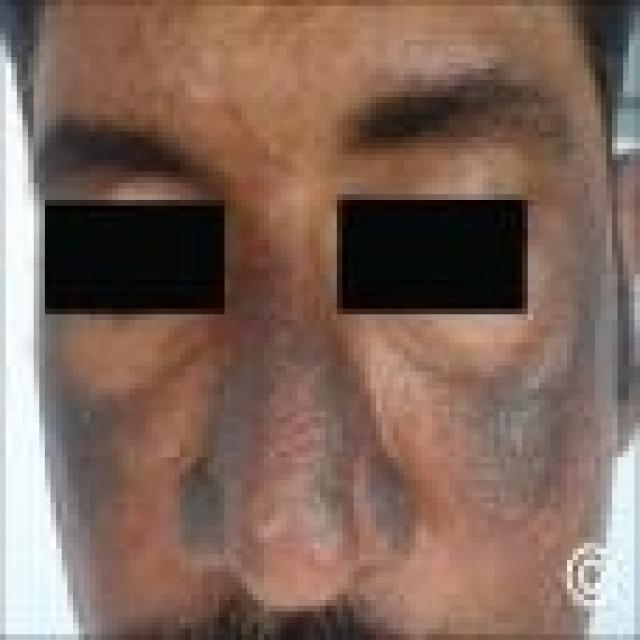Melasma: (179, 312, 422, 564), (467, 147, 608, 551), (32, 338, 136, 586)
